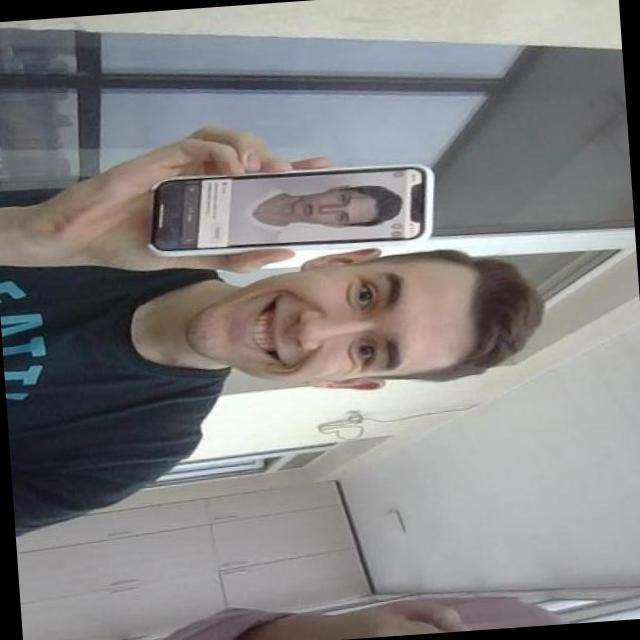bareface: (174, 248, 497, 394)
